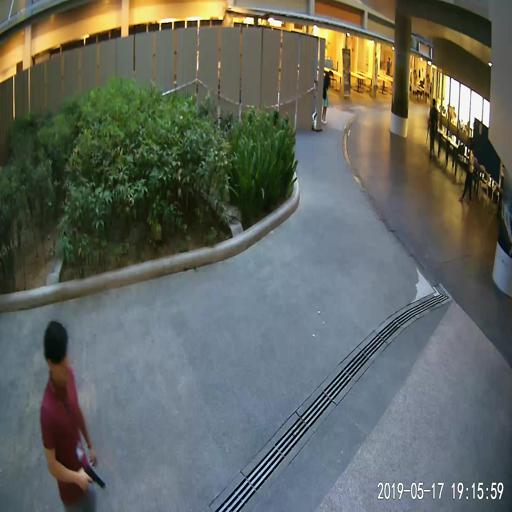pistol: (82, 463, 105, 490)
